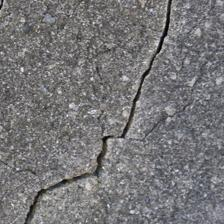Crack: (24, 134, 127, 221), (120, 3, 179, 141)
